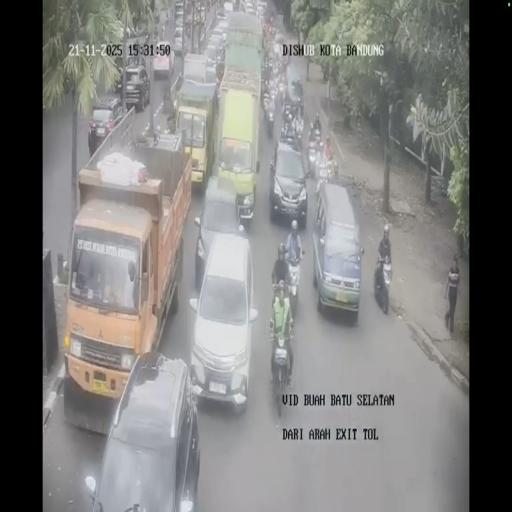3: (173, 67, 219, 193), (222, 10, 264, 83)
car: (89, 351, 199, 510), (312, 184, 362, 319), (193, 172, 247, 282), (268, 135, 308, 226), (88, 97, 125, 156), (122, 62, 151, 112), (285, 62, 303, 114), (152, 41, 174, 79), (203, 43, 224, 79), (172, 26, 185, 54), (214, 5, 228, 25), (122, 26, 140, 41), (256, 0, 266, 18), (174, 1, 183, 20), (246, 3, 257, 15)
truck: (269, 320, 295, 416), (286, 258, 302, 319), (307, 140, 320, 176), (325, 154, 339, 184), (382, 252, 392, 291), (266, 98, 276, 135), (293, 109, 304, 141), (282, 112, 294, 140), (308, 116, 320, 144), (262, 56, 274, 82), (278, 80, 286, 104), (184, 16, 192, 36)
